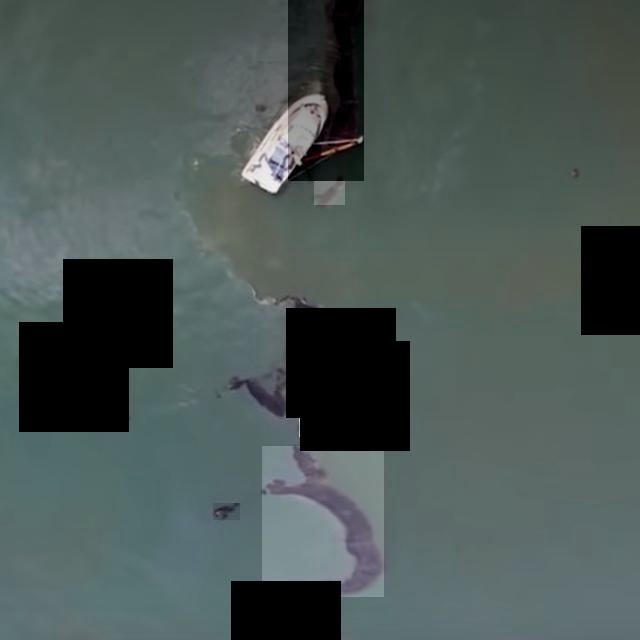oil spill: (262, 447, 384, 597), (289, 1, 364, 181), (228, 289, 325, 418), (314, 175, 345, 205), (299, 409, 318, 437), (213, 503, 240, 520)
